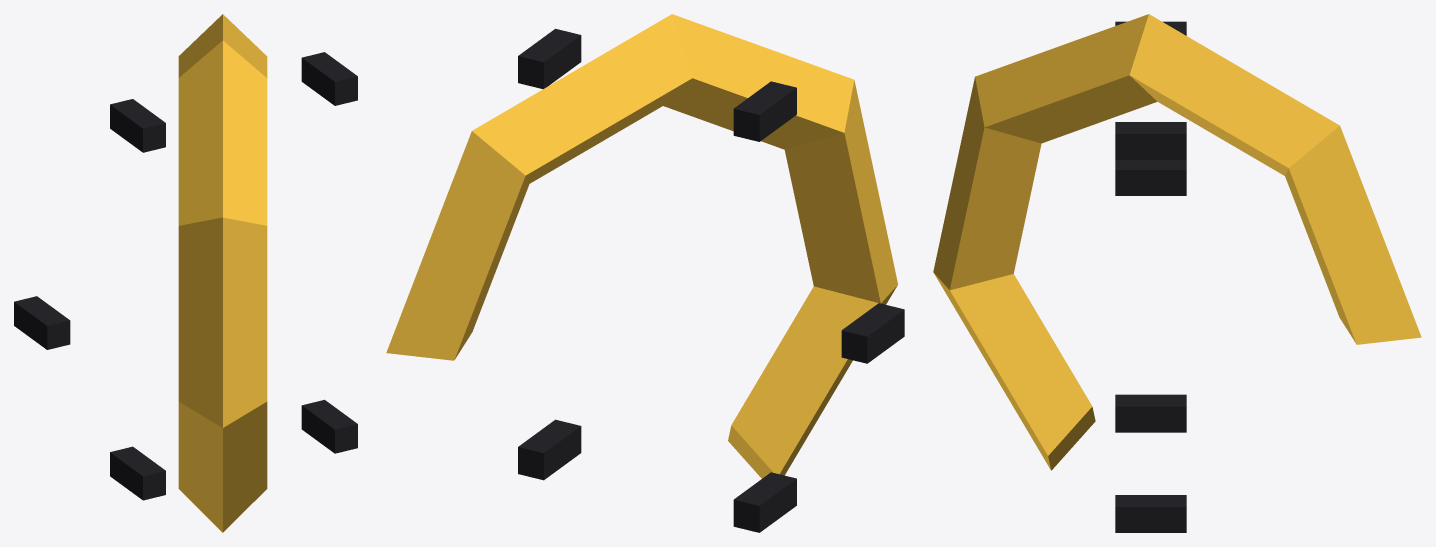
Rendered from LuckyHorseshoe.fbx.
The picture shows the model from 3 angles, left to right: view 1: azimuth 30°, elevation 25°; view 2: azimuth 150°, elevation 25°; view 3: azimuth 270°, elevation 25°; orthographic projection. The views are drawn at different scales.
Parts seen in each view (by area): view 1: LuckyHorseshoe; view 2: LuckyHorseshoe; view 3: LuckyHorseshoe.
Part boxes in pixels (x1,y1,x2,y2): LuckyHorseshoe: (14, 14, 357, 532); LuckyHorseshoe: (386, 14, 904, 532); LuckyHorseshoe: (933, 14, 1421, 532).
Bounding box in the file's own units: 1.73 × 2.23 × 2.06.
1 material, 1 textured.
